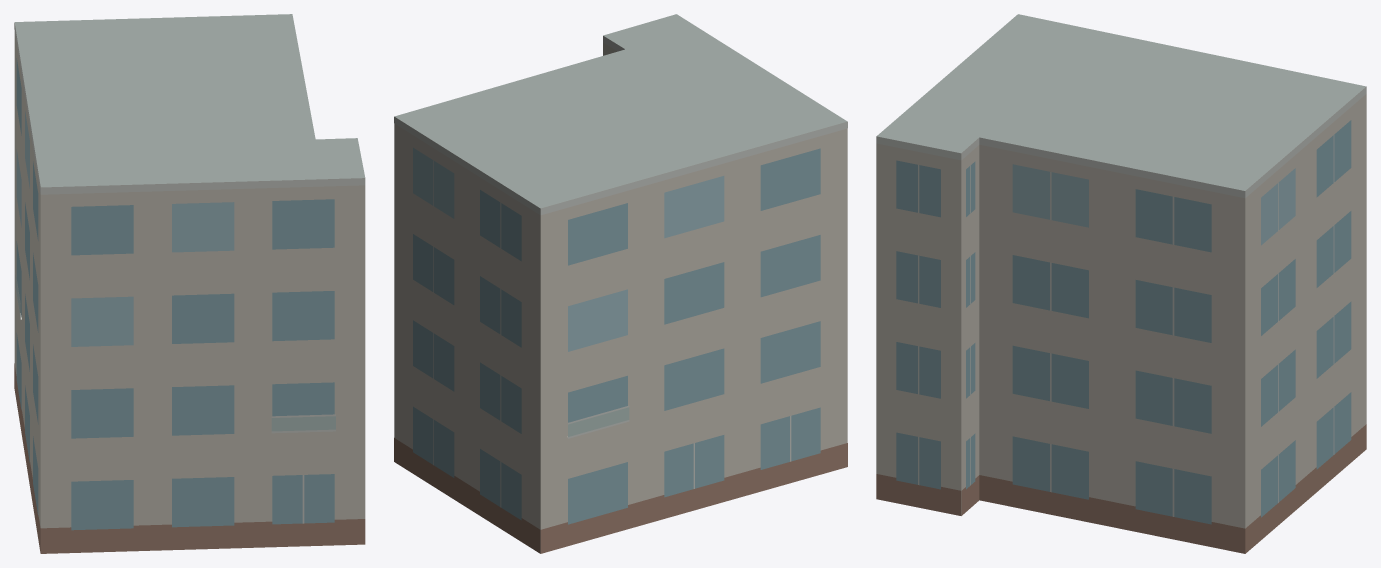
Rendered from survey-upis-32967388.glb.
3 renders of one model, left to right at view 1: azimuth 30°, elevation 25°; view 2: azimuth 150°, elevation 25°; view 3: azimuth 270°, elevation 25°, orthographic. The views are drawn at different scales.
Parts seen in each view (by area): view 1: survey-upis-32967388.tmp; view 2: survey-upis-32967388.tmp; view 3: survey-upis-32967388.tmp.
Boxes of the visible parts, x1,y1,x2,y2 form: survey-upis-32967388.tmp: [14, 14, 365, 553]; survey-upis-32967388.tmp: [394, 14, 847, 553]; survey-upis-32967388.tmp: [876, 14, 1366, 553].
Bounding box in the file's own units: 12.88 × 12.3 × 15.07.
